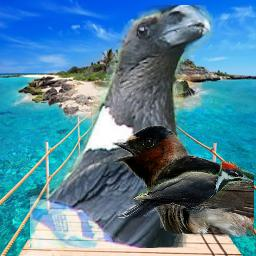Crow: (30, 5, 213, 248)
Swallow: (111, 125, 254, 238)
Woodpecker: (118, 161, 254, 218)
